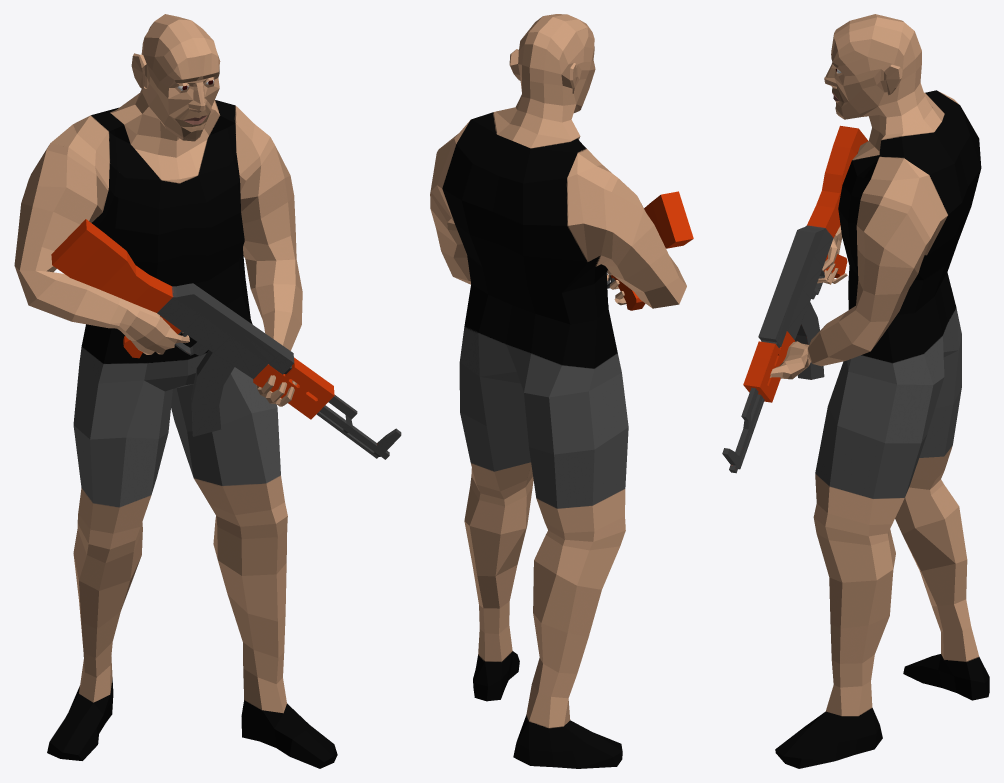
Rendered from PlayerIdle(6).obj.
3 views of the same model, side by side, from view 1: azimuth 30°, elevation 25°; view 2: azimuth 150°, elevation 25°; view 3: azimuth 270°, elevation 25° (orthographic). The views are drawn at different scales.
Visible parts, largest first — view 1: Plane002, Object001; view 2: Plane002, Object001; view 3: Plane002, Object001.
Boxes of the visible parts, x1,y1,x2,y2 form: Plane002: [14, 14, 337, 768]; Object001: [51, 219, 401, 459]; Plane002: [430, 14, 686, 768]; Object001: [606, 191, 693, 310]; Plane002: [770, 14, 989, 768]; Object001: [722, 125, 868, 473].
Bounding box in the file's own units: 745 × 1807 × 628.
